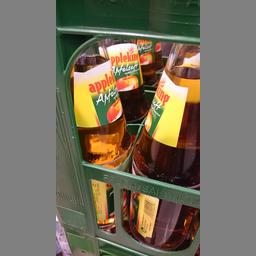juice: (128, 41, 198, 249), (70, 36, 132, 226)
